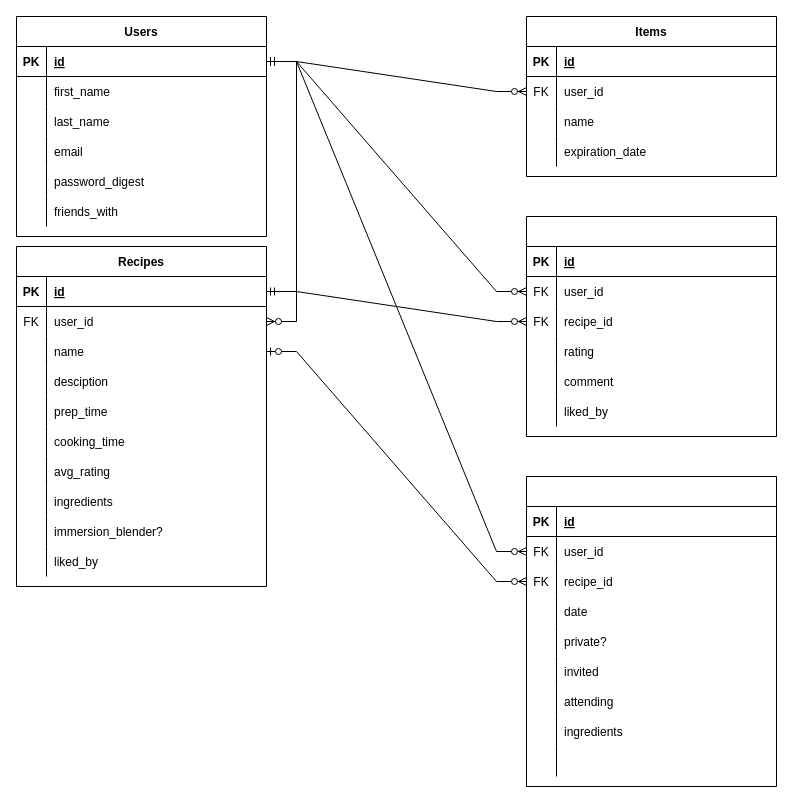
Some shapes in this 793 by 803 pixel diagram are drawn without their labels. Here are the shapes that lost their labels. From the top down, the box of each, then its label:
(526, 216, 776, 436): Reviews
(526, 476, 776, 786): Events
